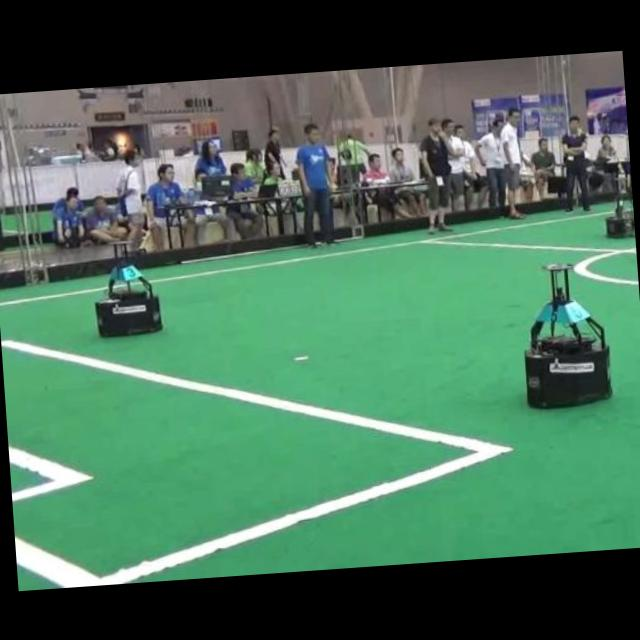robot: (524, 263, 611, 406), (94, 239, 162, 335), (605, 172, 635, 237)
